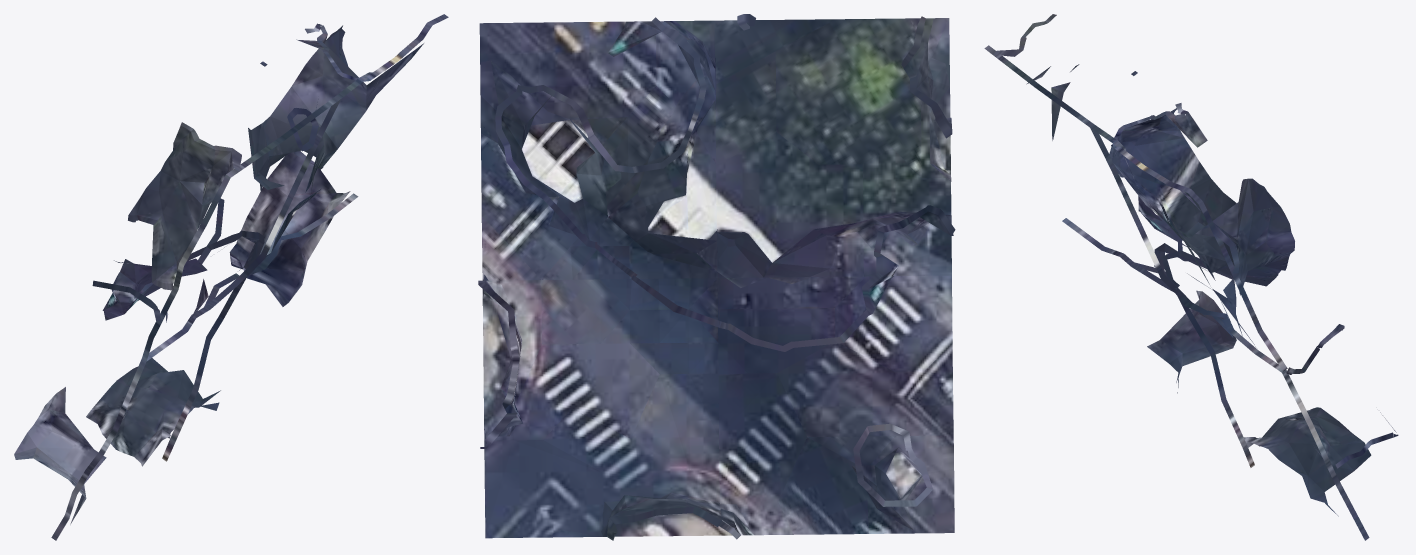
3 views of the same model, side by side, from view 1: azimuth 30°, elevation 25°; view 2: azimuth 150°, elevation 25°; view 3: azimuth 270°, elevation 25° (orthographic). The views are drawn at different scales.
Size of the model in its own units: 38.95 by 37.9 by 34.35.
2 materials, 2 textured.
